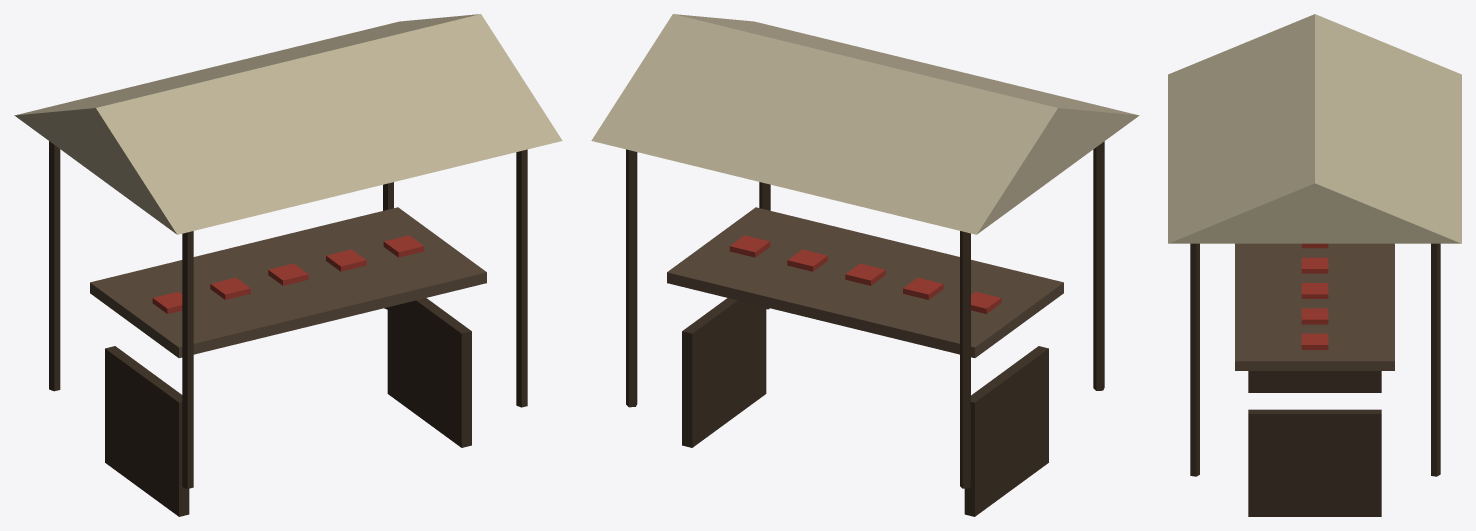
File: s2_seal_market_stall.glb
The picture shows the model from 3 angles, left to right: view 1: azimuth 30°, elevation 25°; view 2: azimuth 150°, elevation 25°; view 3: azimuth 270°, elevation 25°; orthographic projection. The views are drawn at different scales.
Visible parts, largest first — view 1: s2_seal_market_stall; view 2: s2_seal_market_stall; view 3: s2_seal_market_stall.
Part boxes in pixels (x1=…): s2_seal_market_stall: x1=14, y1=14, x2=562, y2=516; s2_seal_market_stall: x1=591, y1=14, x2=1139, y2=516; s2_seal_market_stall: x1=1168, y1=14, x2=1461, y2=516.
Size of the model in its own units: 3 by 2.93 by 2.2.
